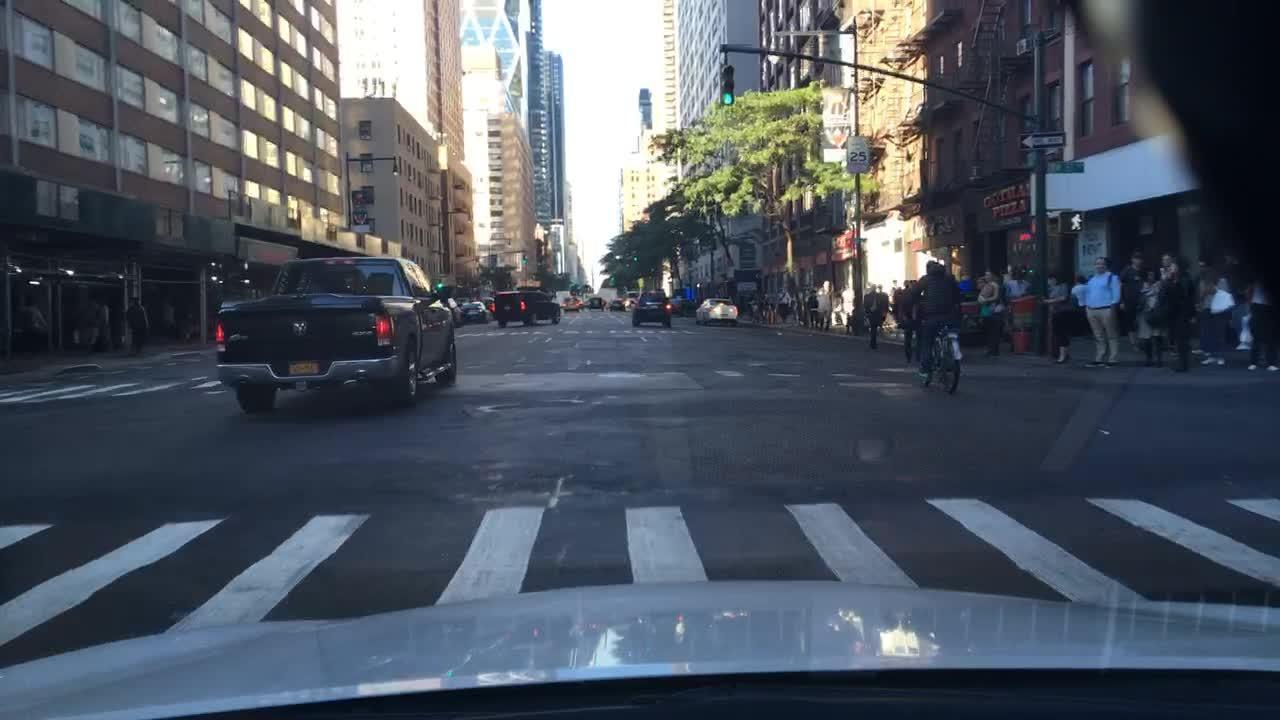ram: (288, 316, 316, 340)
